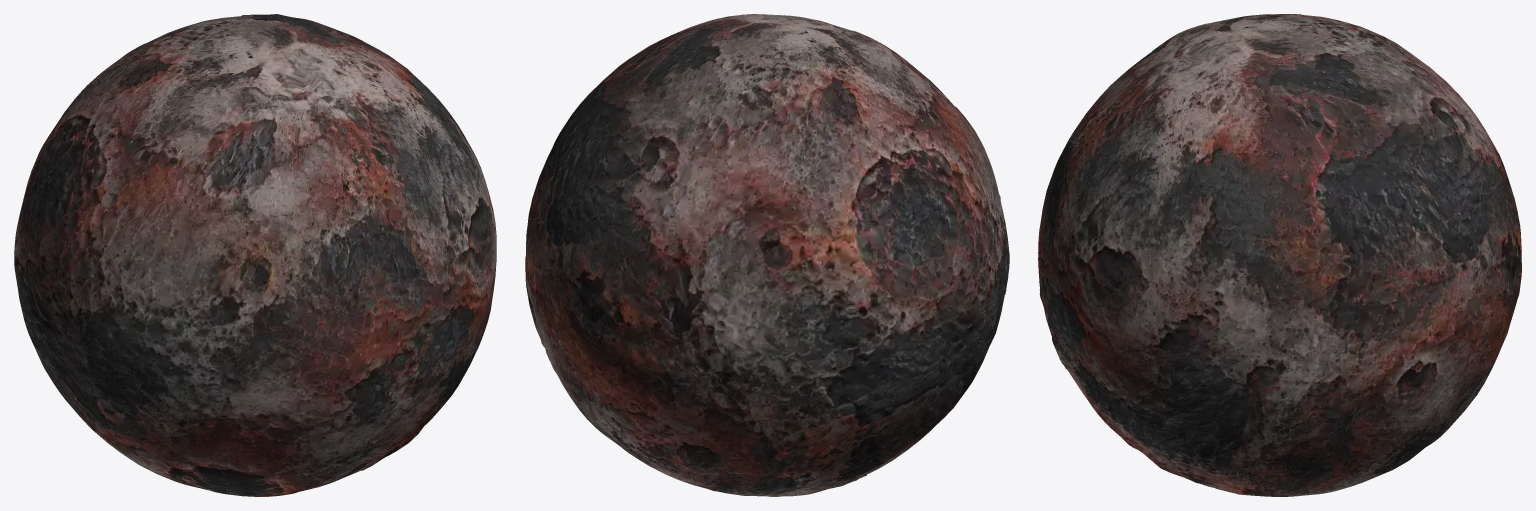
File: planet_12.glb
The picture shows the model from 3 angles, left to right: view 1: azimuth 30°, elevation 25°; view 2: azimuth 150°, elevation 25°; view 3: azimuth 270°, elevation 25°; orthographic projection.
Parts seen in each view (by area): view 1: Mesh_0.001; view 2: Mesh_0.001; view 3: Mesh_0.001.
Boxes of the visible parts, bbox=[...] form: Mesh_0.001: bbox=[14, 14, 496, 496]; Mesh_0.001: bbox=[525, 14, 1009, 496]; Mesh_0.001: bbox=[1038, 14, 1521, 496].
Bounding box in the file's own units: 1.9 × 1.9 × 1.9.
Materials: 1 (1 with a texture image).
